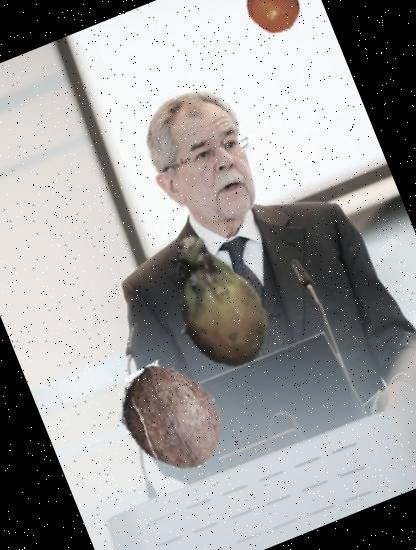Cactus: (125, 206, 310, 392)
Clementine: (237, 0, 310, 41)
Cocos: (96, 344, 244, 491)
